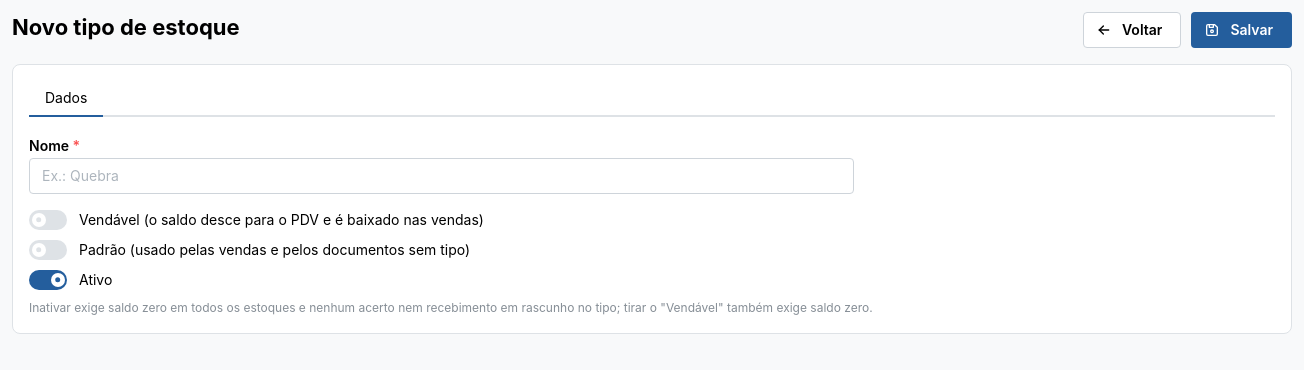
<FormularioTipoEstoque> (ERP 13.6) › novo tipo nasce não vendável e mostra o erro de nome repetido da API
Expected: the heading "Novo tipo de estoque" is shown, [12,12,240,43]
Expected: the switch labelled "Vendável (o saldo desce para o PDV e é baixado nas vendas)" is not checked, [29,210,484,230]
Type "Quebra" into the field labelled "Nome *" at (442, 176), box [29,158,854,194]
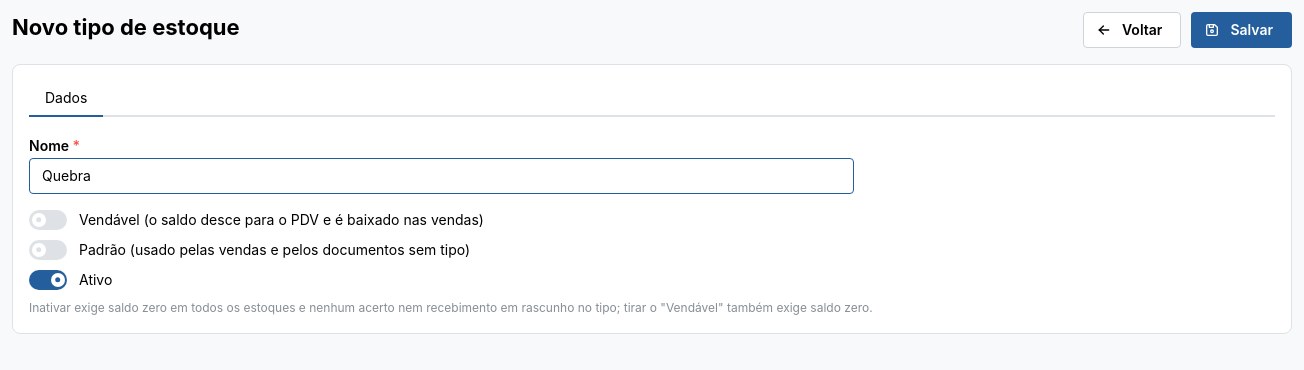
Click the button "Salvar" at (1242, 30), box [1191,12,1292,48]
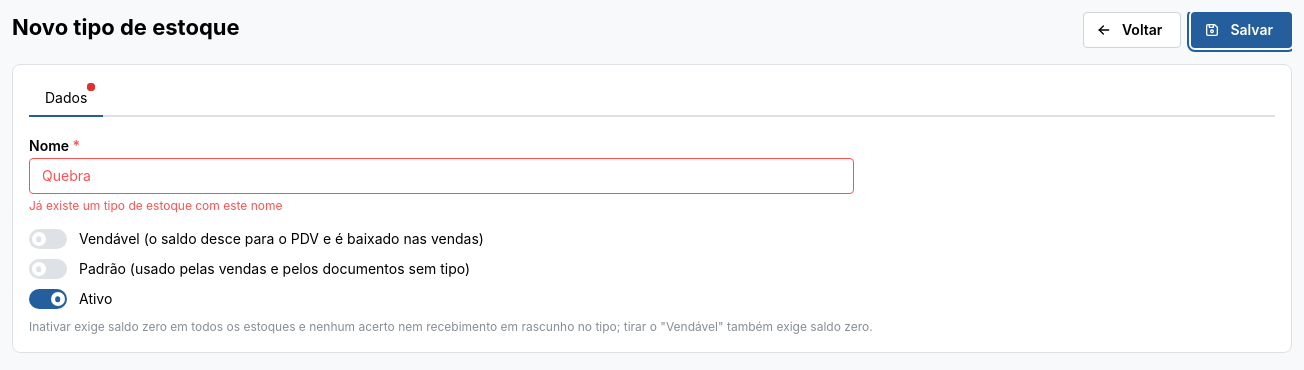
Result: the text "Já existe um tipo de estoque com este nome" is shown at [29,198,282,213]
